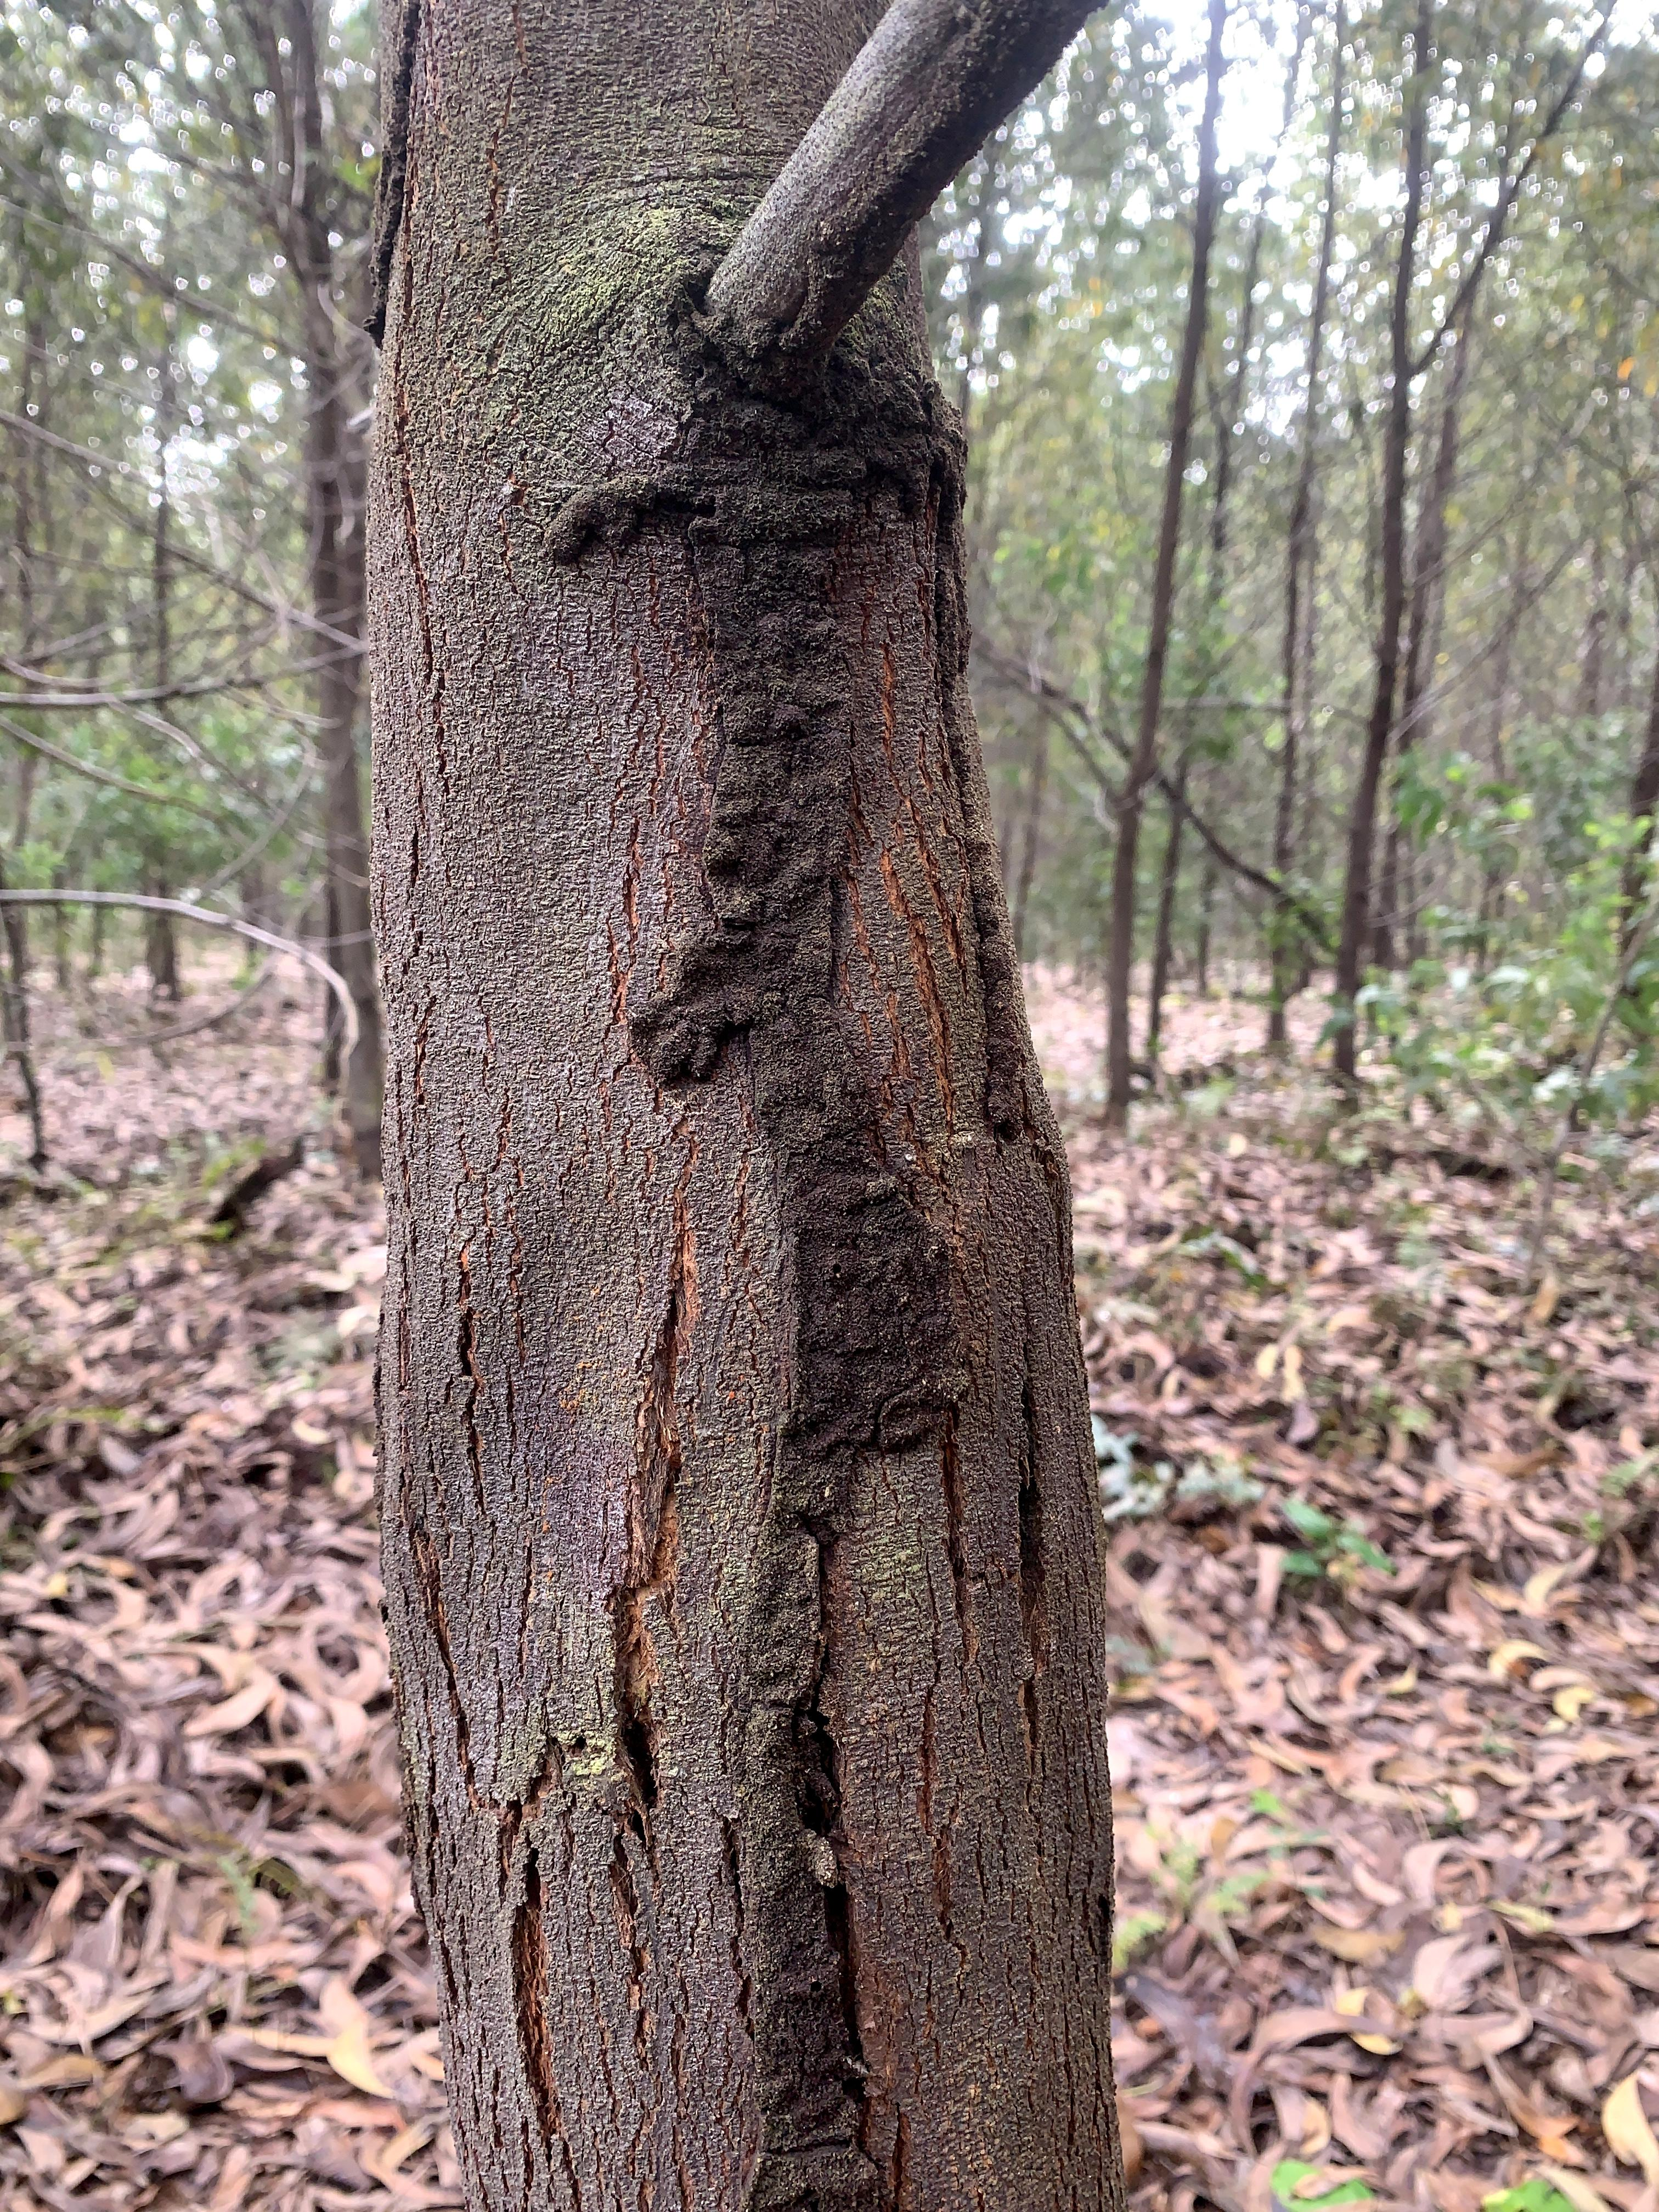Termite - Nest: (599, 308, 1065, 2212)
